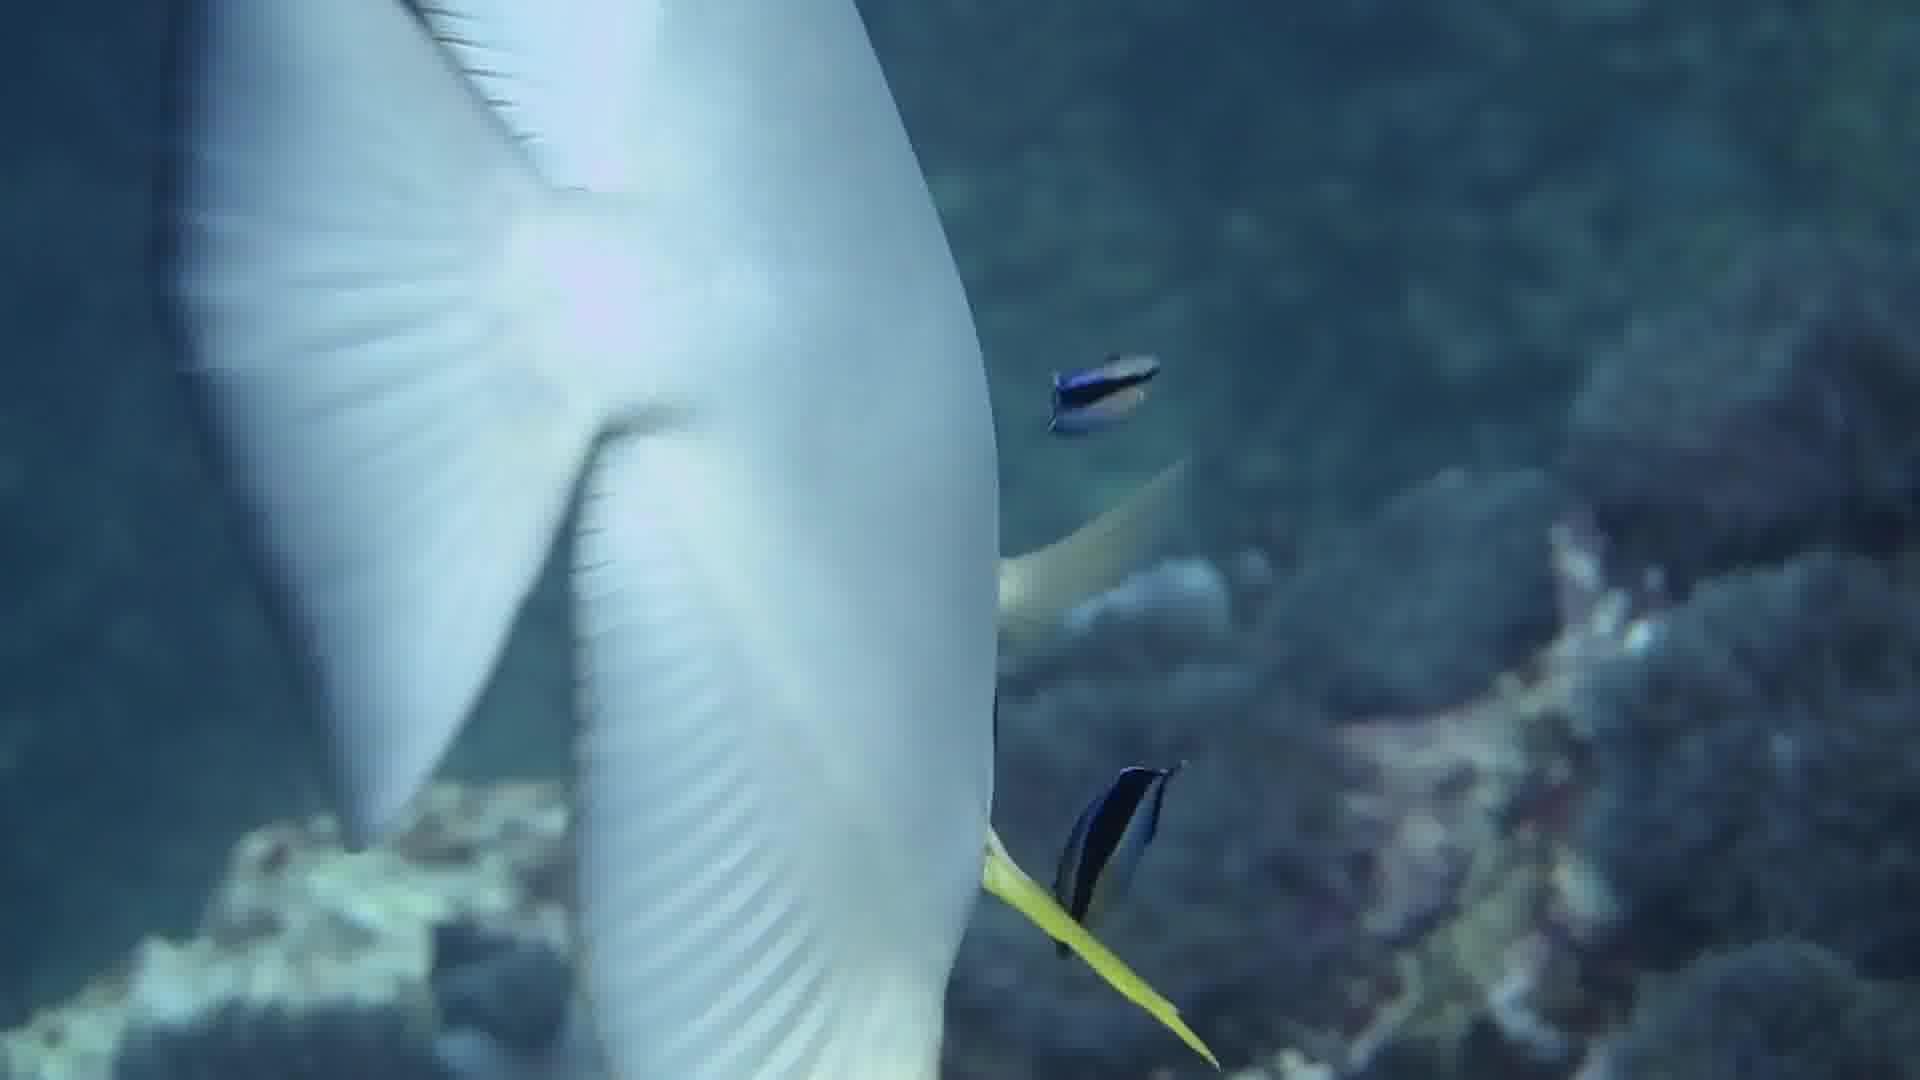Platax teira: (137, 1, 1216, 1080)
